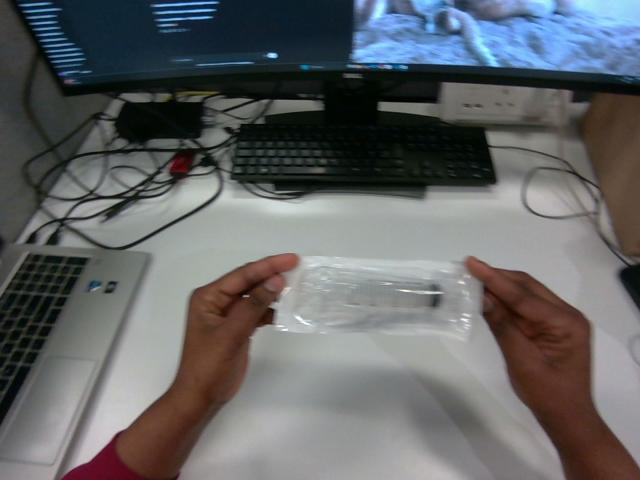syringe: (275, 257, 481, 338)
